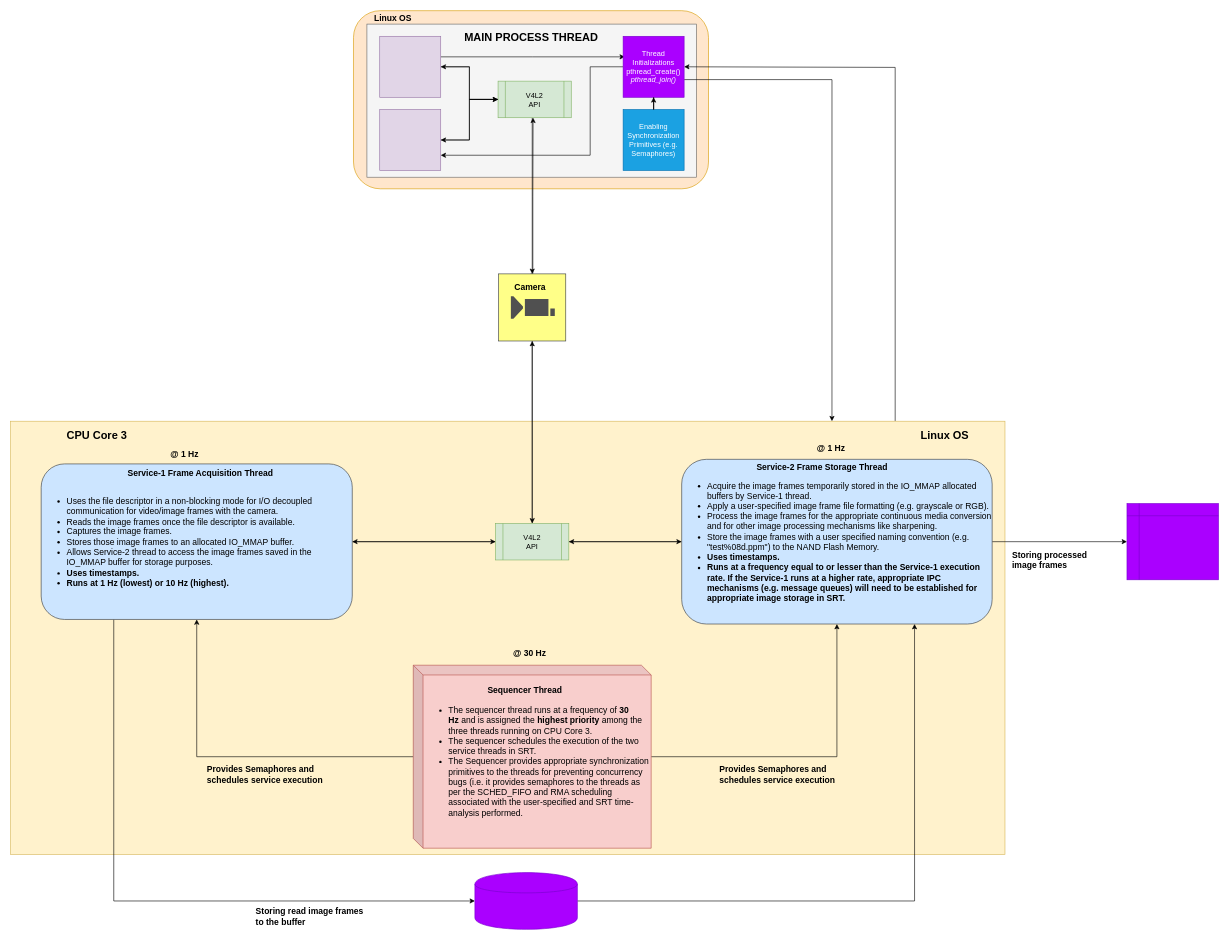
Some shapes in this 1229 by 940 pixel diagram are drawn without their labels. The box of each missing label's shape, as (x1, y1, x2, y2) in pixels:
NAND FLASH MEMORY: (1126, 503, 1218, 580)
open_device() init_device() start_capturing(): (379, 36, 441, 97)
stop_capturing() uninit_device() close_device(): (379, 109, 441, 170)
V4L2API IO_MMAP Buffers: (474, 872, 577, 929)
